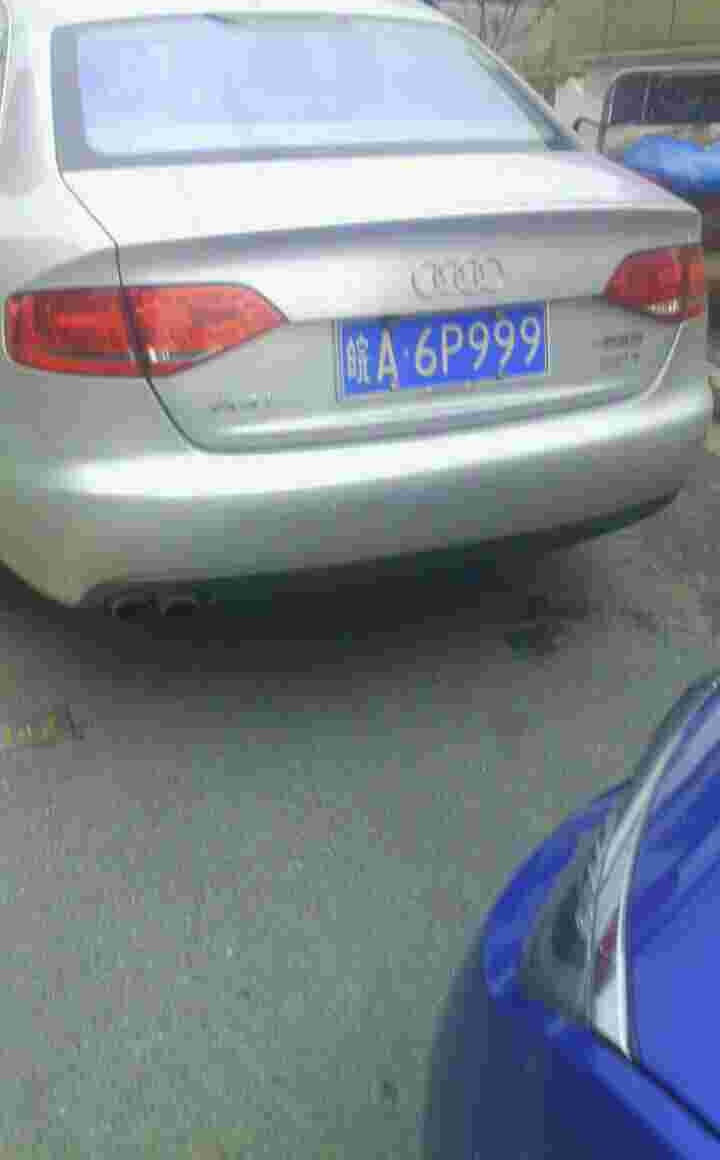license_plate: (330, 320, 549, 383)
